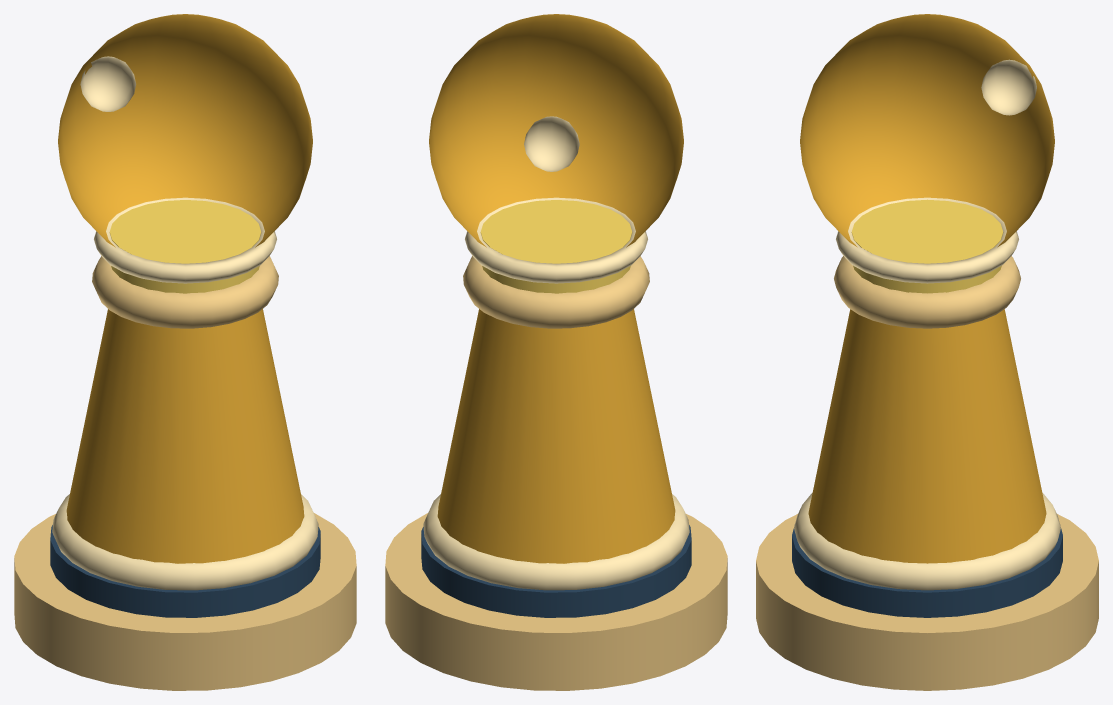
Rendered from token_solar.glb.
3 renders of one model, left to right at view 1: azimuth 30°, elevation 25°; view 2: azimuth 150°, elevation 25°; view 3: azimuth 270°, elevation 25°, orthographic.
Visible parts, largest first — view 1: solar, gold, gold_light, solar_hi, navy; view 2: solar, gold, gold_light, solar_hi, navy; view 3: solar, gold, gold_light, solar_hi, navy.
Boxes of the visible parts, x1=… form: solar: x1=58, y1=14, x2=312, y2=563; gold: x1=14, y1=256, x2=356, y2=690; gold_light: x1=52, y1=56, x2=318, y2=590; solar_hi: x1=109, y1=200, x2=261, y2=293; navy: x1=50, y1=525, x2=320, y2=617; solar: x1=429, y1=14, x2=683, y2=563; gold: x1=385, y1=256, x2=727, y2=690; gold_light: x1=423, y1=116, x2=689, y2=590; solar_hi: x1=480, y1=200, x2=632, y2=293; navy: x1=421, y1=525, x2=691, y2=617; solar: x1=800, y1=14, x2=1054, y2=563; gold: x1=756, y1=256, x2=1098, y2=690; gold_light: x1=794, y1=59, x2=1060, y2=590; solar_hi: x1=851, y1=199, x2=1003, y2=293; navy: x1=792, y1=528, x2=1062, y2=617.
Size of the model in its own units: 0.86 by 1.64 by 0.86.
